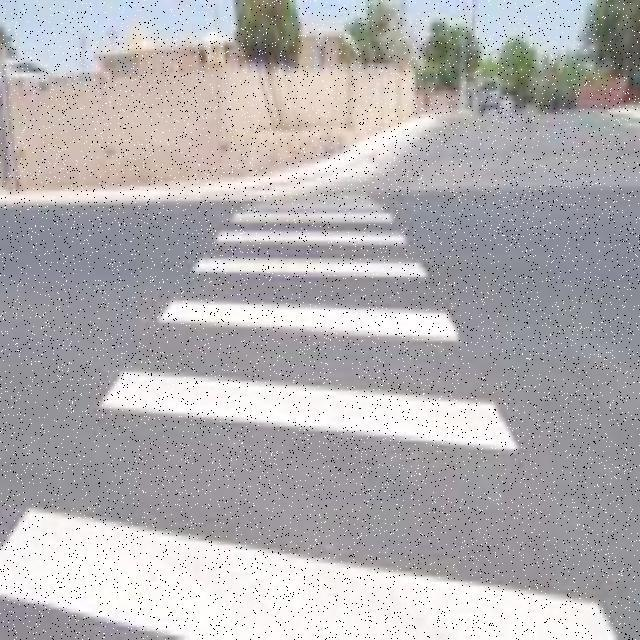Pedestrian crosswalk: (104, 191, 490, 454)
